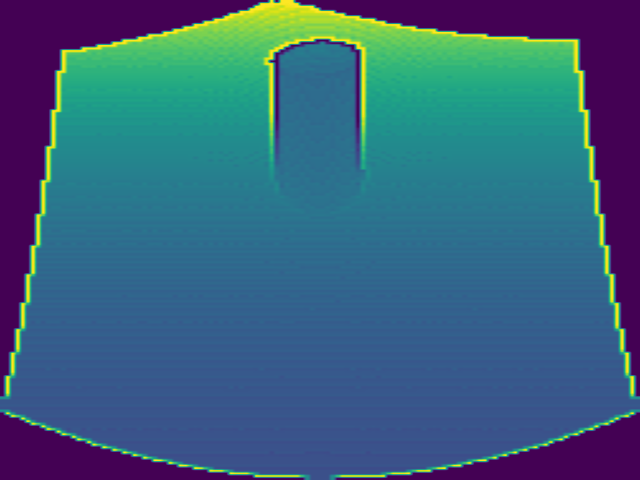cylinder: (268, 36, 367, 205)
